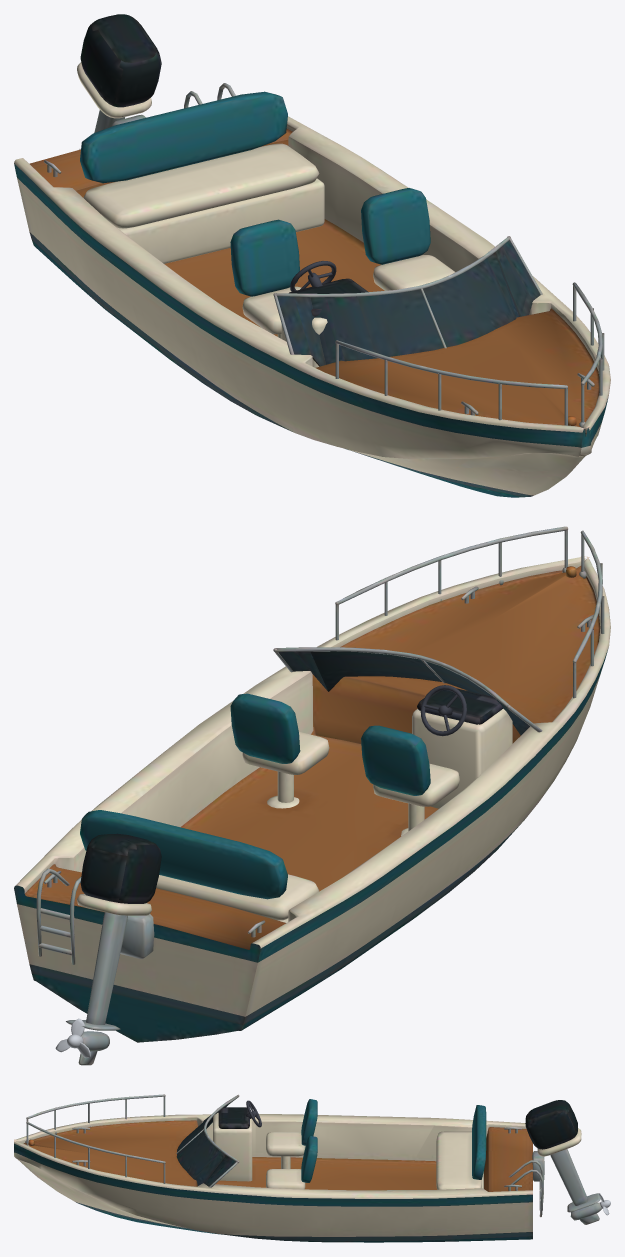
Rendered from motorboat-5YKPONJ2.glb.
The picture shows the model from 3 angles, top to bottom: view 1: azimuth 30°, elevation 25°; view 2: azimuth 150°, elevation 25°; view 3: azimuth 270°, elevation 25°; orthographic projection. The views are drawn at different scales.
Visible parts, largest first — view 1: motorboat_body, motorboat_steering_wheel; view 2: motorboat_body, motorboat_steering_wheel; view 3: motorboat_body, motorboat_steering_wheel.
Part boxes in pixels (box(x1,y1,x2,y2)): motorboat_body: box(14, 14, 610, 497); motorboat_steering_wheel: box(290, 261, 336, 291); motorboat_body: box(14, 526, 610, 1065); motorboat_steering_wheel: box(420, 685, 466, 736); motorboat_body: box(14, 1094, 601, 1242); motorboat_steering_wheel: box(246, 1100, 261, 1127).
Size of the model in its own units: 2.46 by 1.83 by 7.53.
3 materials, 1 textured.
